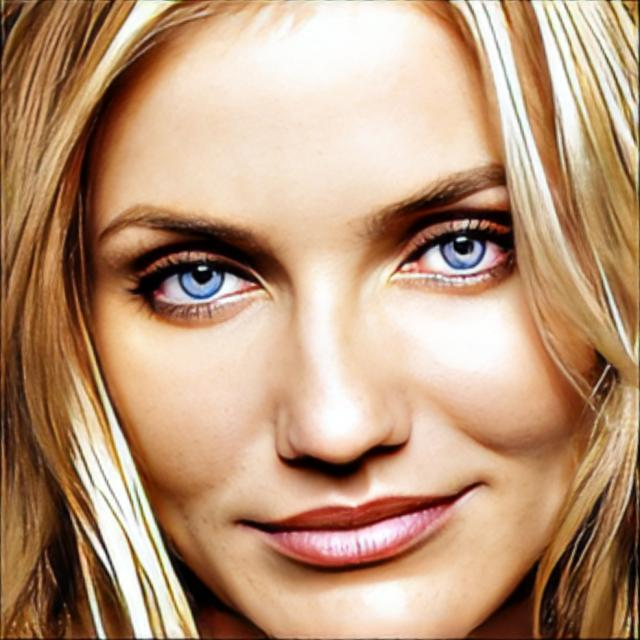content: (90, 0, 600, 640)
